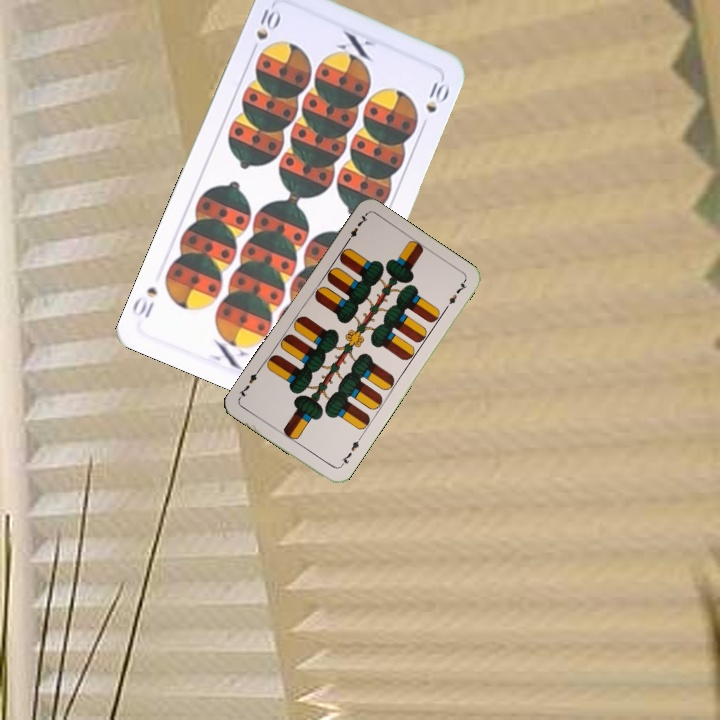E7: (342, 211, 371, 247), (336, 434, 363, 470)
S10: (252, 2, 284, 43)
